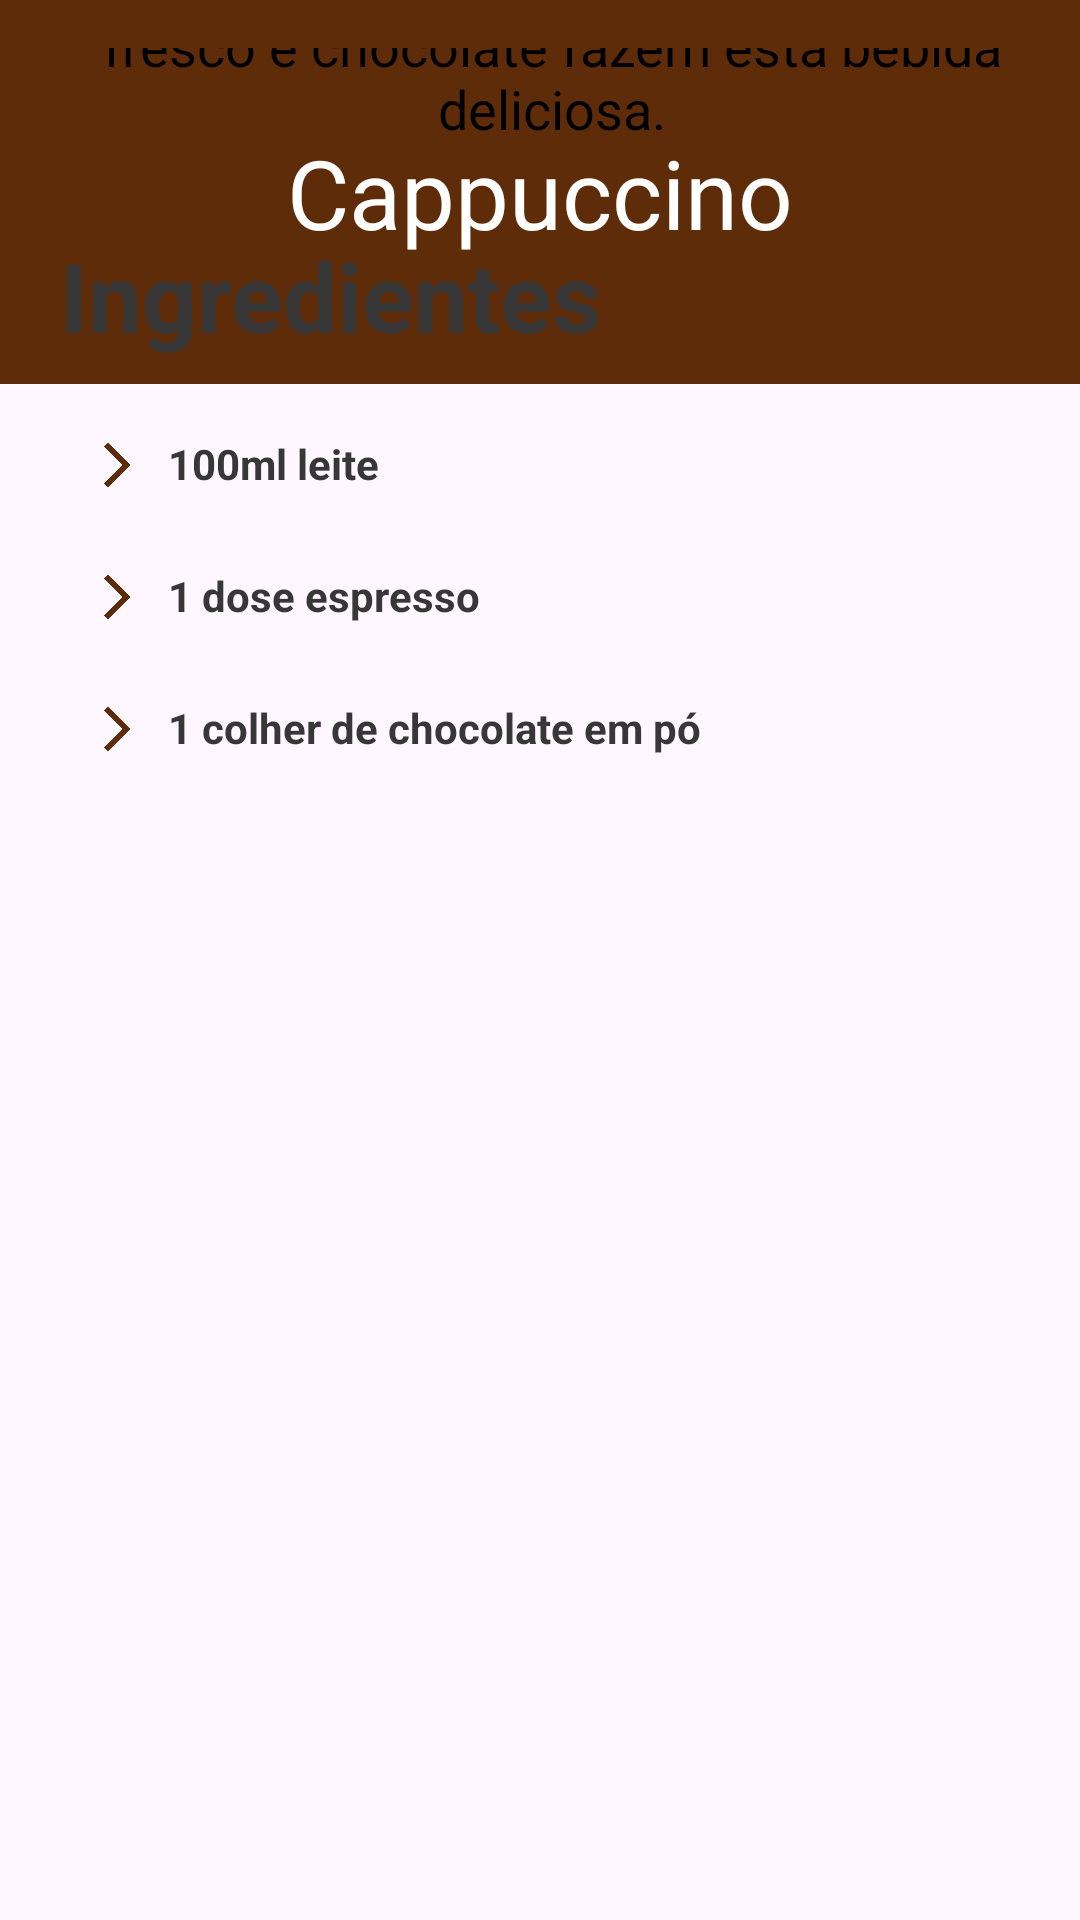

Screen size 1080x1920. Icon name, then its center in pixels as (x=x, y=y):
arrow forward: (x=117, y=465), (x=117, y=597), (x=117, y=729)
